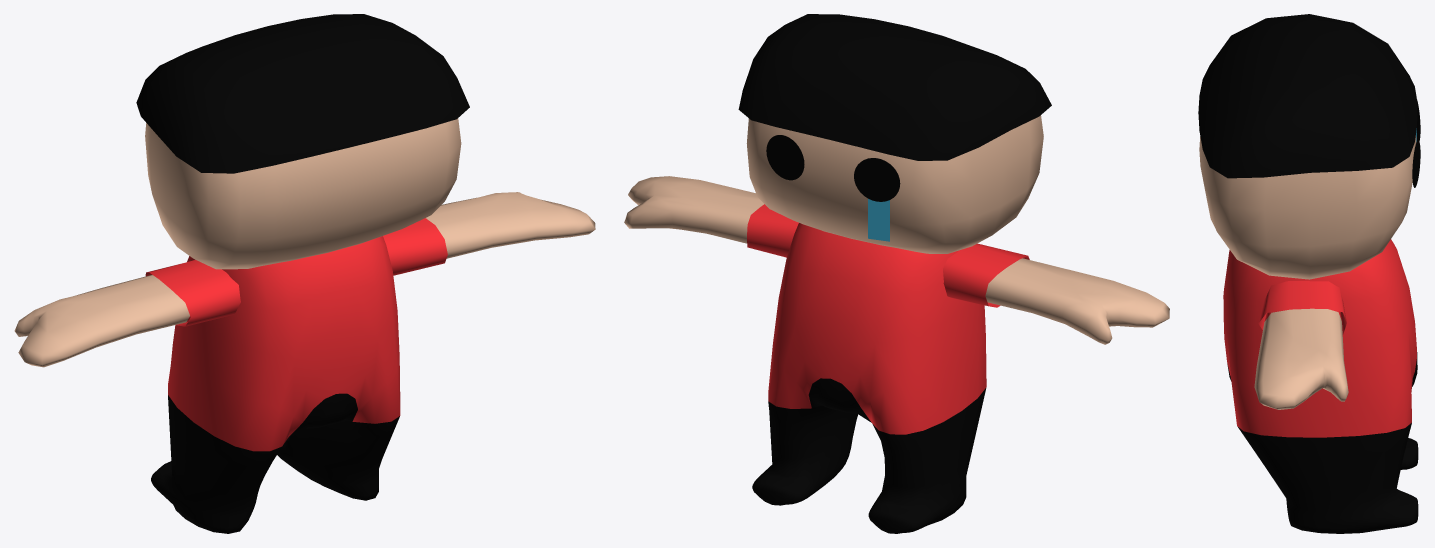
File: toy.fbx
3 views of the same model, side by side, from view 1: azimuth 30°, elevation 25°; view 2: azimuth 150°, elevation 25°; view 3: azimuth 270°, elevation 25° (orthographic). The views are drawn at different scales.
Visible parts, largest first — view 1: Cube.002, Cube.001, Cube, Cube.003; view 2: Cube.002, Cube.001, Cube, Cube.003, Circle, Plane; view 3: Cube.002, Cube.001, Cube, Cube.003, Circle.
Boxes of the visible parts, left/top/right/bottom form: Cube.002: left=151, top=236, right=400, bottom=533; Cube.001: left=136, top=14, right=469, bottom=173; Cube: left=145, top=118, right=461, bottom=269; Cube.003: left=14, top=192, right=595, bottom=367; Cube.002: left=752, top=223, right=986, bottom=533; Cube.001: left=738, top=14, right=1051, bottom=160; Cube: left=746, top=115, right=1043, bottom=253; Cube.003: left=624, top=176, right=1169, bottom=344; Circle: left=766, top=135, right=900, bottom=201; Plane: left=868, top=198, right=889, bottom=241; Cube.002: left=1223, top=239, right=1418, bottom=533; Cube.001: left=1198, top=14, right=1417, bottom=178; Cube: left=1199, top=135, right=1416, bottom=279; Cube.003: left=1254, top=281, right=1348, bottom=409; Circle: left=1412, top=100, right=1420, bottom=187.
Bounding box in the file's own units: 502 × 398 × 181.
